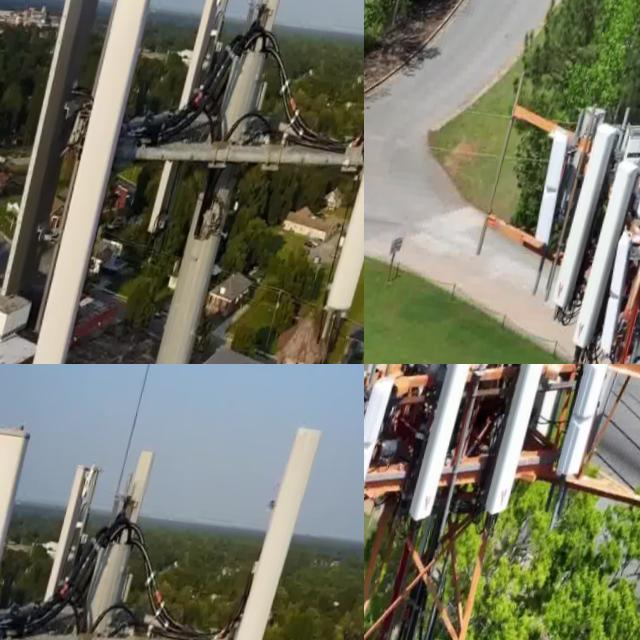GSM Antenna: (42, 0, 155, 364), (10, 0, 117, 313), (147, 0, 240, 247), (243, 422, 331, 640), (14, 456, 103, 640), (551, 123, 625, 319), (572, 154, 640, 357), (487, 364, 570, 526), (415, 364, 495, 525), (560, 364, 622, 489), (530, 126, 584, 256), (112, 445, 165, 575), (364, 371, 407, 518), (596, 229, 640, 358), (247, 0, 300, 84)
